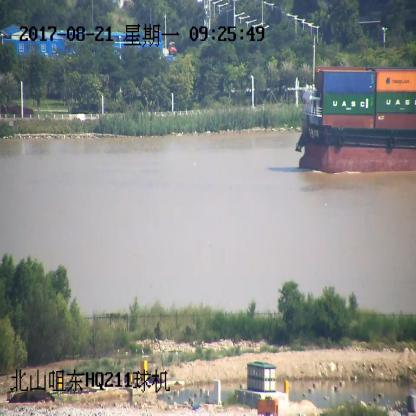Container Ship: (296, 41, 416, 172)
